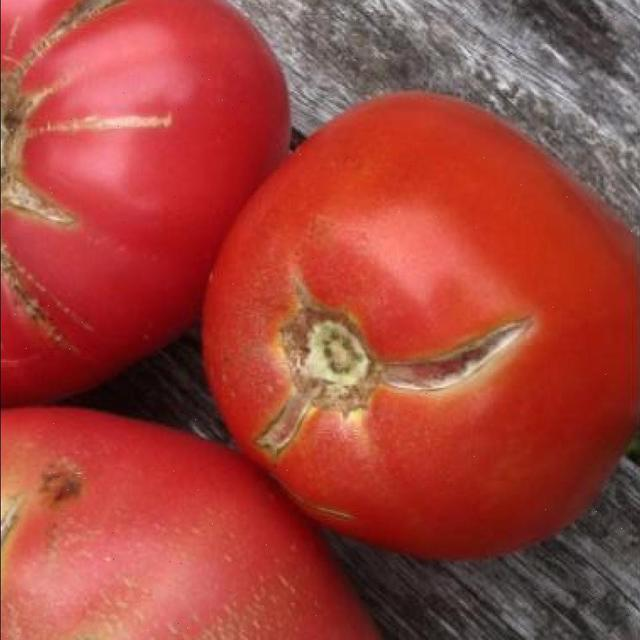Healthy Fruit: (0, 0, 100, 70)
